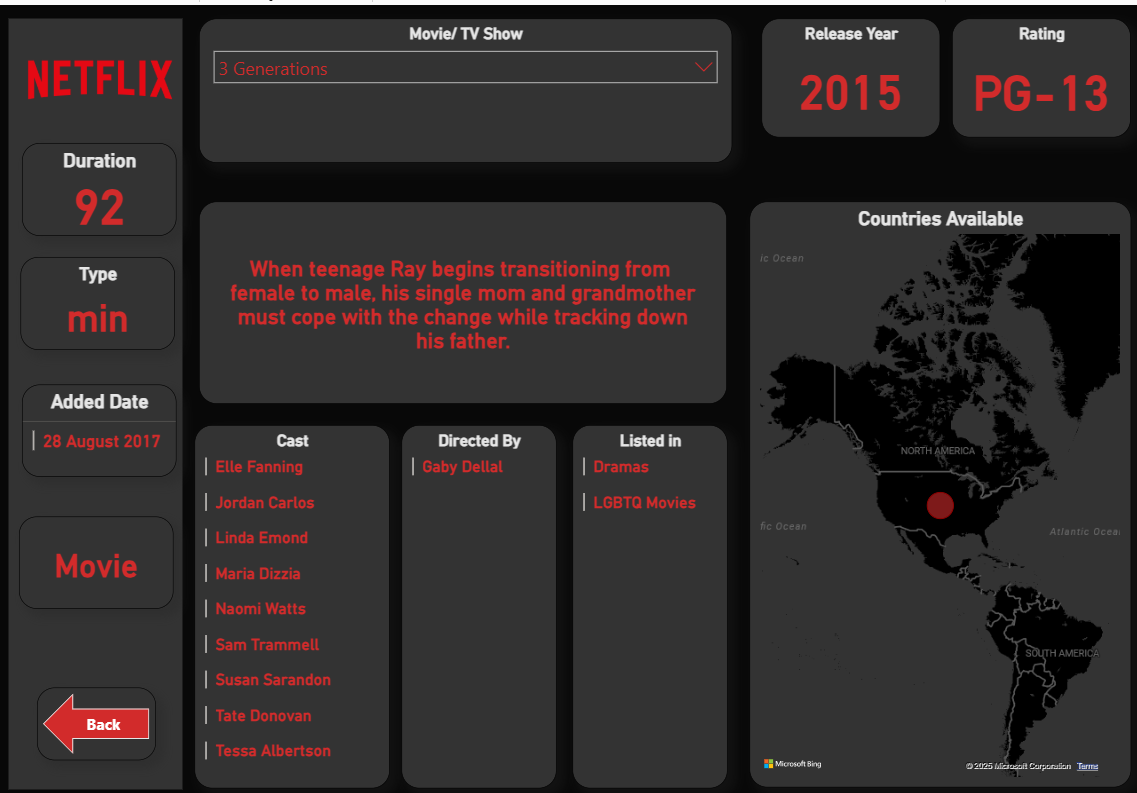

This screenshot's page, from the dashboard's own definition file:
{"tool":"powerbi","page":{"name":"Single Title View","canvas":[1300,900],"ordinal":1},"visuals":[{"type":"shape","box":[15.2,15.2,196,868.5],"z":0},{"type":"map","title":"Countries Available","fields":{"Category":["netflix_data countries_released.country"],"Size":["CountNonNull(netflix_data countries_released.show_id)"]},"box":[849.5,222.2,429.9,660.3],"z":1000},{"type":"image","box":[13.5,6.8,209.5,148.7],"z":2000},{"type":"card","title":"Rating","fields":{"Values":["Min(netflix_data netflix_titles.rating)"]},"box":[1077.8,14.4,201.6,133.7],"z":3000},{"type":"card","title":"Release Year","fields":{"Values":["Sum(netflix_data netflix_titles.release_year)"]},"box":[863.9,14.4,201.6,133.7],"z":4000},{"type":"slicer","title":"Movie/ TV Show","fields":{"Values":["netflix_data netflix_titles.title"]},"box":[230.4,14.4,600.6,162.5],"z":5000},{"type":"multiRowCard","title":"Cast","fields":{"Values":["netflix_data netflix_cast.cast"]},"box":[224.2,473.1,220.1,409.3],"z":6000},{"type":"multiRowCard","title":"Directed By","fields":{"Values":["netflix_data netflix_director.director"]},"box":[458.7,473.1,174.8,409.3],"z":7000},{"type":"multiRowCard","title":"Listed in","fields":{"Values":["netflix_data netflix_listed_in.category"]},"box":[650,473.1,174.8,409.3],"z":8000},{"type":"card","title":"Release Year","fields":{"Values":["Min(netflix_data description.description)"]},"box":[230.4,222.2,594.5,228.3],"z":9000},{"type":"card","title":"Duration","fields":{"Values":["Sum(netflix_data netflix_titles.duration)"]},"box":[30.4,155.4,174,104.8],"z":10000},{"type":"card","title":"Type","fields":{"Values":["Min(netflix_data netflix_titles.duration_type)"]},"box":[28.7,283.9,174,104.8],"z":11000},{"type":"shape","box":[47.3,769.3,133.7,82.3],"z":12000},{"type":"card","title":"Movie/TV Show","fields":{"Values":["Min(netflix_data netflix_titles.type)"]},"box":[26.7,575.9,174,104],"z":12001},{"type":"multiRowCard","title":"Added Date","fields":{"Values":["Min(netflix_data netflix_titles.date_added)"]},"box":[30.9,427.8,174,104],"z":12002}]}

Visuals, with their boxes in screenshot pixels (x1, y1, x2, y2), scaled from the page's 1300x900 canvas onto the 1137x793 screenshot:
shape: <box>13,13,185,779</box>
"Countries Available" map: <box>743,196,1119,778</box>
image: <box>12,6,195,137</box>
"Rating" card: <box>943,13,1119,130</box>
"Release Year" card: <box>756,13,932,130</box>
"Movie/ TV Show" slicer: <box>202,13,727,156</box>
"Cast" multiRowCard: <box>196,417,389,777</box>
"Directed By" multiRowCard: <box>401,417,554,777</box>
"Listed in" multiRowCard: <box>568,417,721,777</box>
"Release Year" card: <box>202,196,721,397</box>
"Duration" card: <box>27,137,179,229</box>
"Type" card: <box>25,250,177,342</box>
shape: <box>41,678,158,750</box>
"Movie/TV Show" card: <box>23,507,176,599</box>
"Added Date" multiRowCard: <box>27,377,179,469</box>
